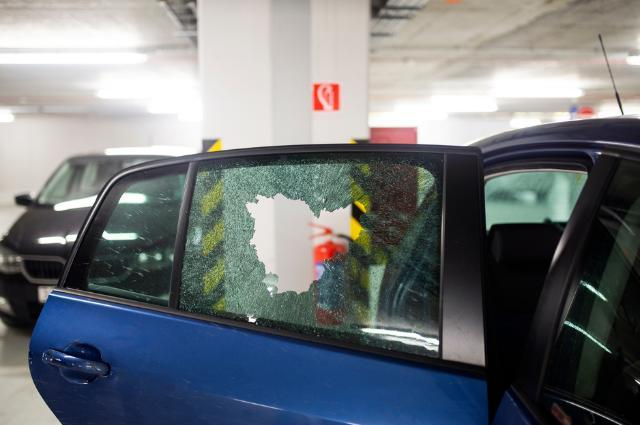Door: (171, 155, 471, 376)
